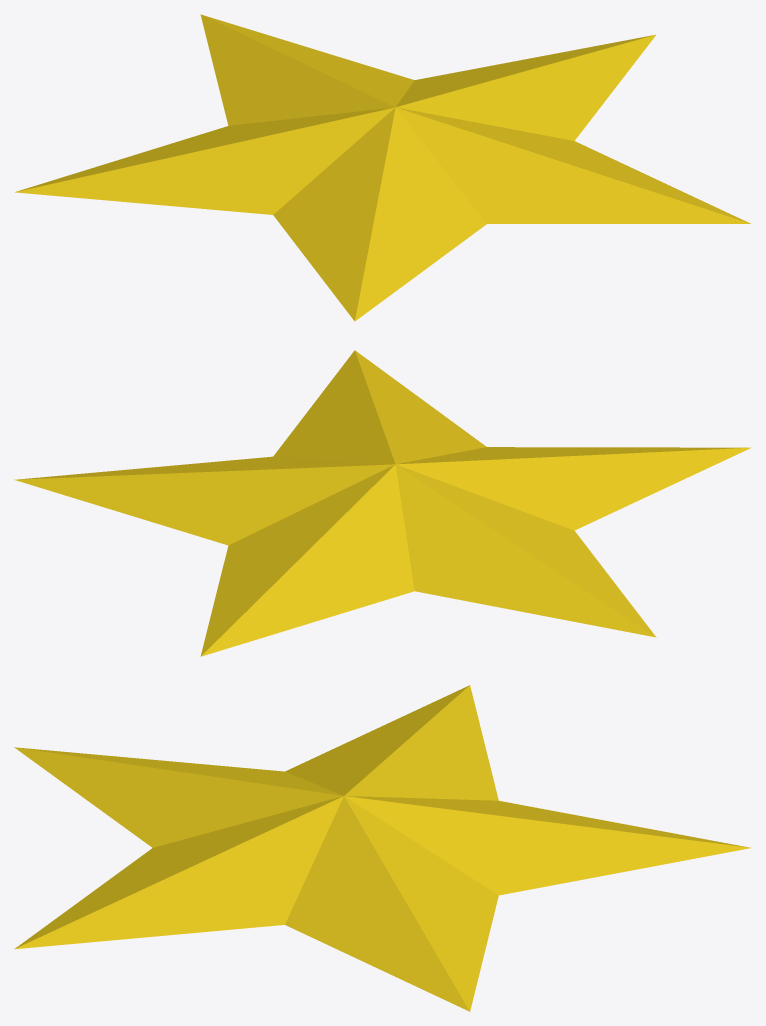
Rendered from star.glb.
3 renders of one model, top to bottom at view 1: azimuth 30°, elevation 25°; view 2: azimuth 150°, elevation 25°; view 3: azimuth 270°, elevation 25°, orthographic. The views are drawn at different scales.
Parts seen in each view (by area): view 1: Circle.001; view 2: Circle.001; view 3: Circle.001.
Boxes of the visible parts, x1,y1,x2,y2 form: Circle.001: (15,14,750,321); Circle.001: (14,350,751,656); Circle.001: (14,685,750,1011).
Bounding box in the file's own units: 1.9 × 0.2813 × 1.81.
